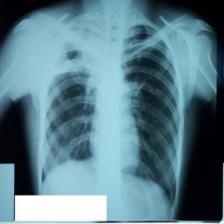tuberculosis: (38, 13, 184, 201)
